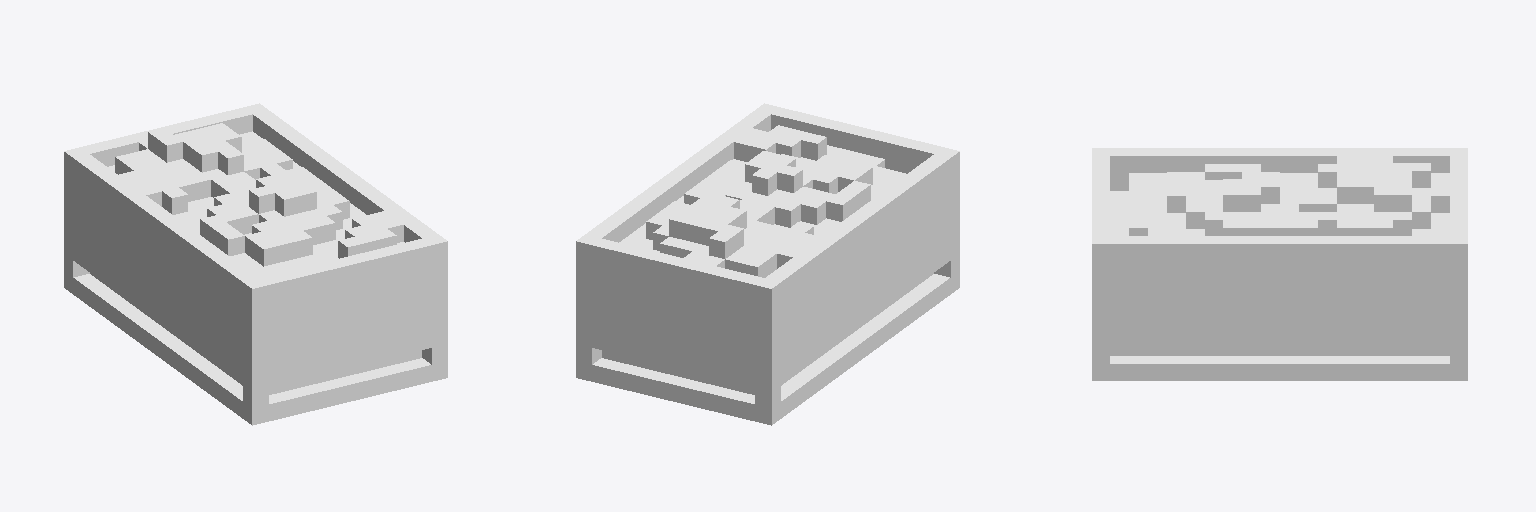
File: PlantBox0.obj
The picture shows the model from 3 angles: view 1: azimuth 30°, elevation 25°; view 2: azimuth 150°, elevation 25°; view 3: azimuth 270°, elevation 25°; orthographic projection.
Parts seen in each view (by area): view 1: object 1; view 2: object 1; view 3: object 1.
Part boxes in pixels (bbox=[...]): object 1: bbox=[64, 103, 447, 425]; object 1: bbox=[576, 103, 959, 425]; object 1: bbox=[1092, 148, 1467, 380].
Size of the model in its own units: 1.2 by 0.9 by 2.